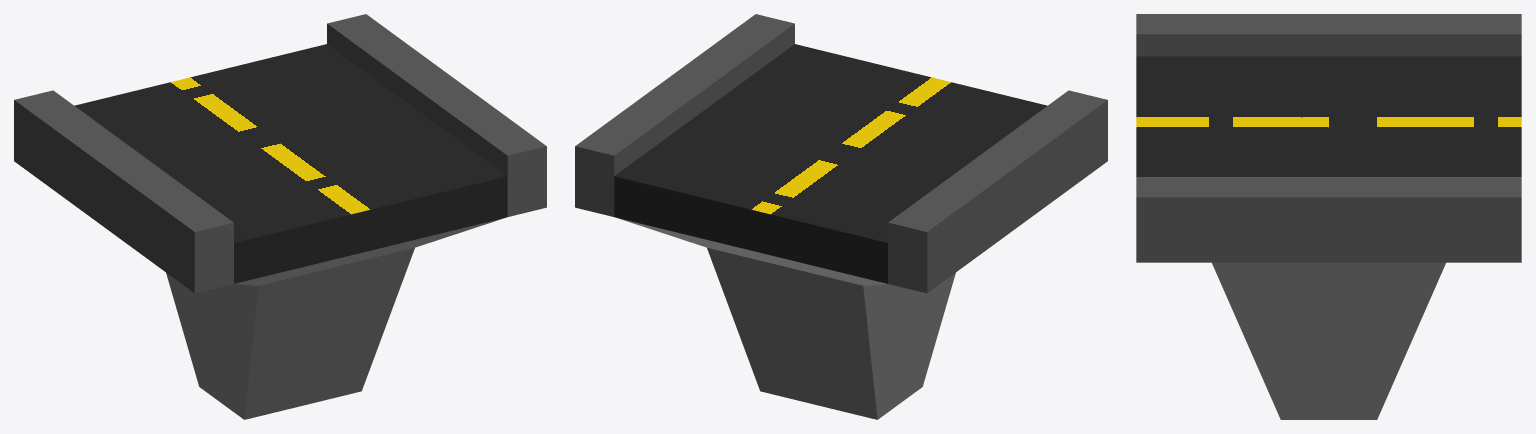
File: bridge.fbx
The picture shows the model from 3 angles, left to right: view 1: azimuth 30°, elevation 25°; view 2: azimuth 150°, elevation 25°; view 3: azimuth 270°, elevation 25°; orthographic projection. The views are drawn at different scales.
Visible parts, largest first — view 1: cuboid, cube; view 2: cuboid, cube; view 3: cuboid, cube.
Part boxes in pixels (bbox=[...]): cuboid: bbox=[74, 44, 507, 419]; cube: bbox=[14, 14, 546, 293]; cuboid: bbox=[614, 44, 1047, 419]; cube: bbox=[575, 14, 1107, 293]; cuboid: bbox=[1136, 56, 1521, 419]; cube: bbox=[1136, 14, 1521, 262].
Size of the model in its own units: 112 by 81.25 by 100.
Materials: 2 (2 with a texture image).
